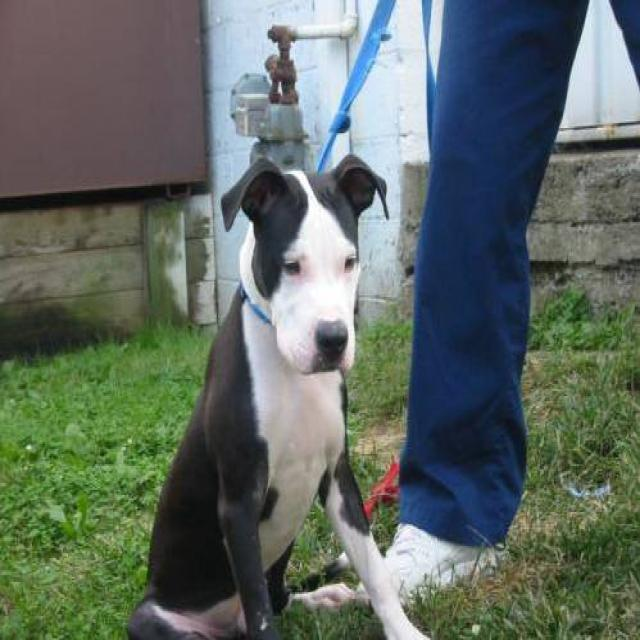dog: (123, 150, 449, 638)
